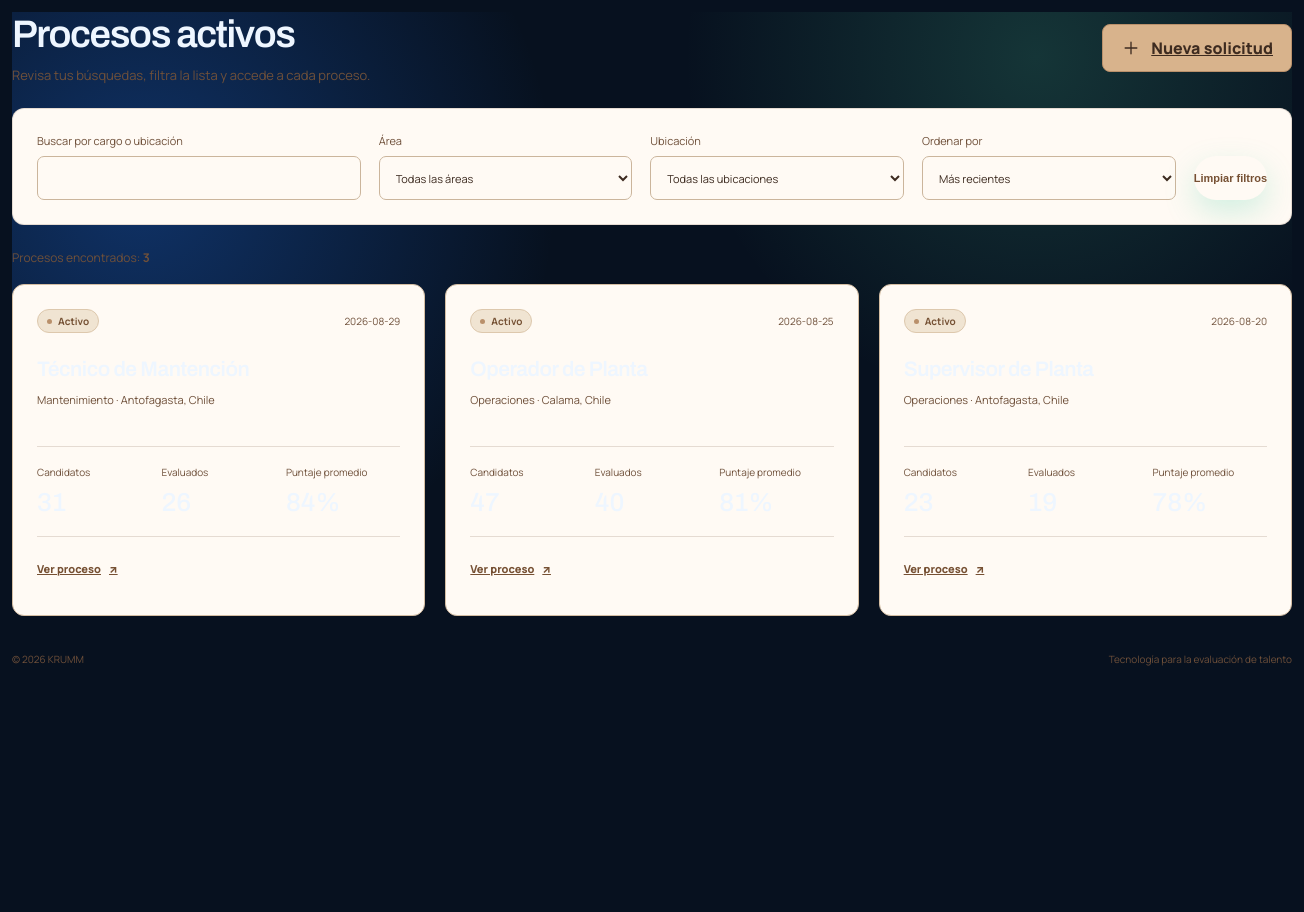
Test: D. CompanyProcessesPage (ref processes.html/js — filtros y sort operativos) › búsqueda "calama" → 1 card (operator) + count 1 (aceptación: filtros operativos)
Type "calama" into the search field labelled "Buscar por cargo o ubicación" at (199, 178), box [37,156,361,200]
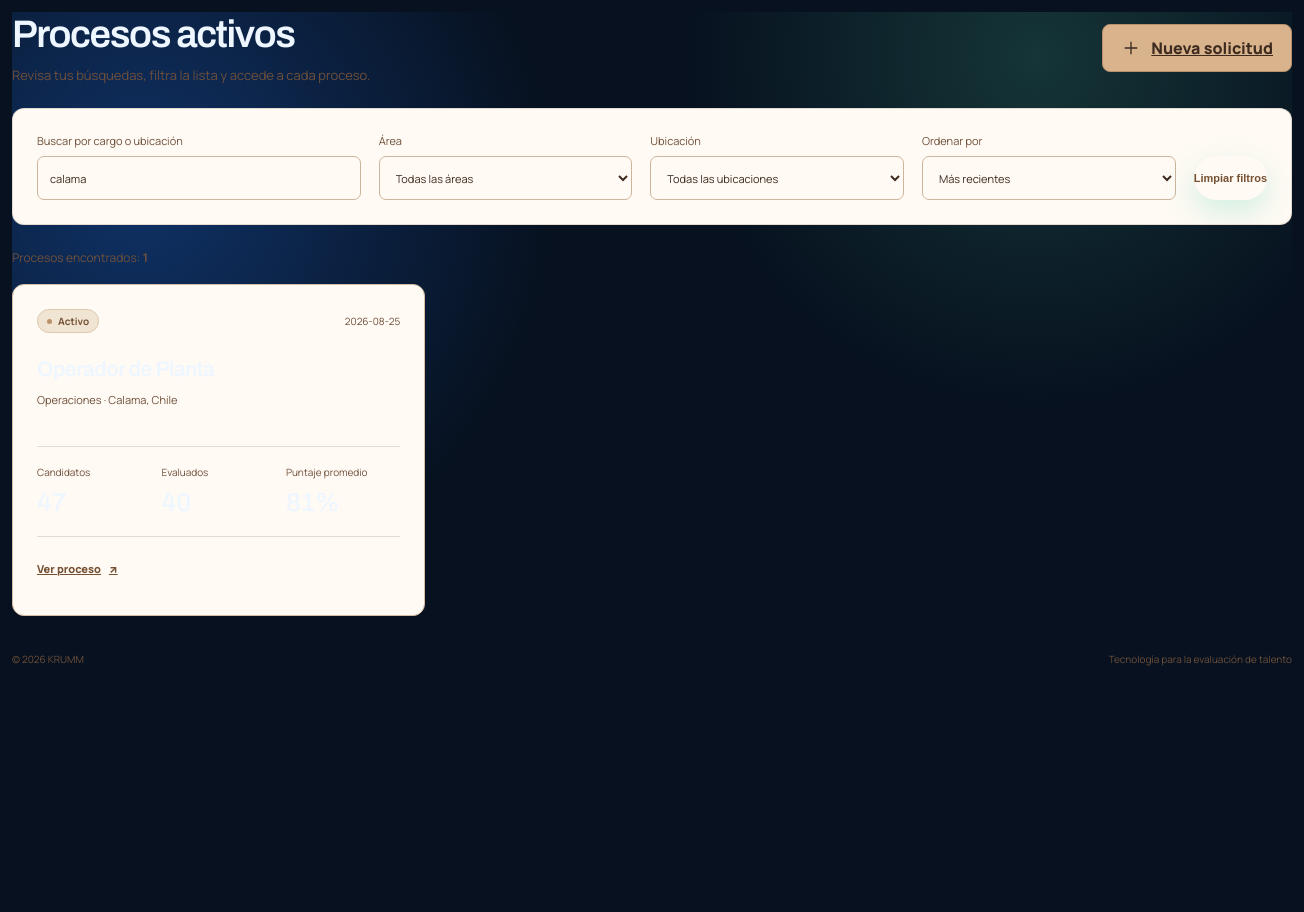
Expected: the text with test id "v2-process-count" reads "1", [143,249,148,266]
